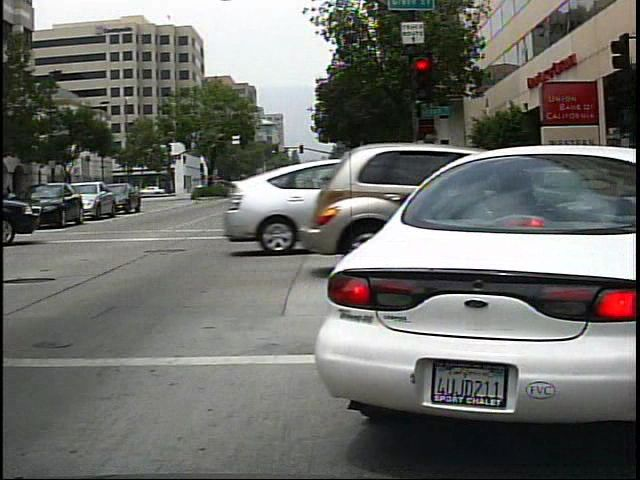car: (301, 134, 640, 397), (317, 144, 503, 252), (225, 154, 329, 267), (28, 179, 79, 226), (1, 199, 42, 252), (80, 181, 117, 220), (115, 184, 141, 212)
